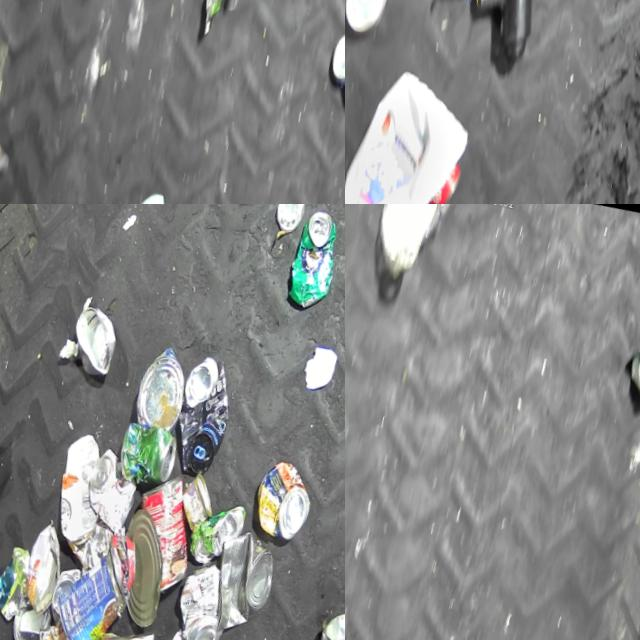can: (111, 469, 205, 603), (157, 354, 240, 483), (34, 542, 135, 640), (192, 527, 279, 640), (97, 508, 175, 634), (277, 209, 345, 319), (240, 459, 316, 551), (72, 445, 142, 540), (124, 343, 192, 437), (158, 559, 232, 640), (9, 520, 68, 621), (109, 420, 180, 496), (59, 300, 123, 382), (178, 499, 244, 576), (306, 15, 345, 138), (167, 473, 218, 540), (39, 564, 78, 629), (345, 0, 395, 47), (614, 335, 640, 422), (0, 599, 48, 640), (74, 620, 152, 640), (268, 204, 307, 240), (111, 183, 168, 204), (302, 613, 345, 640)
milk_jug: (345, 57, 483, 204)
